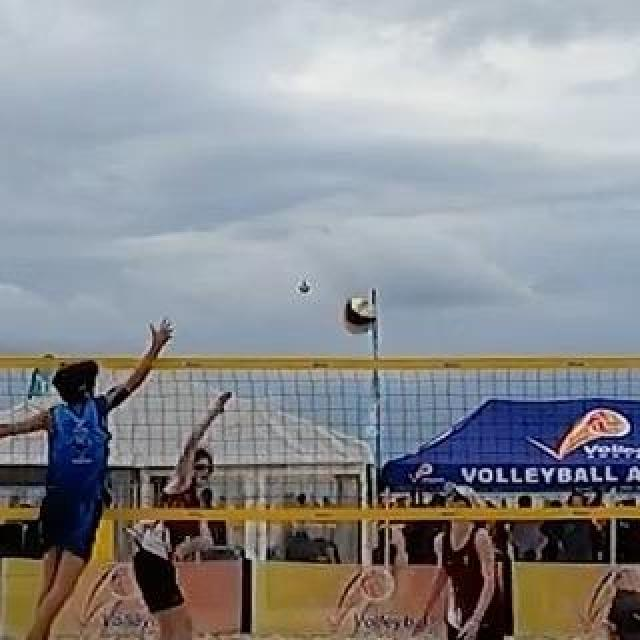volleyball: (342, 297, 380, 333), (298, 281, 312, 295)
